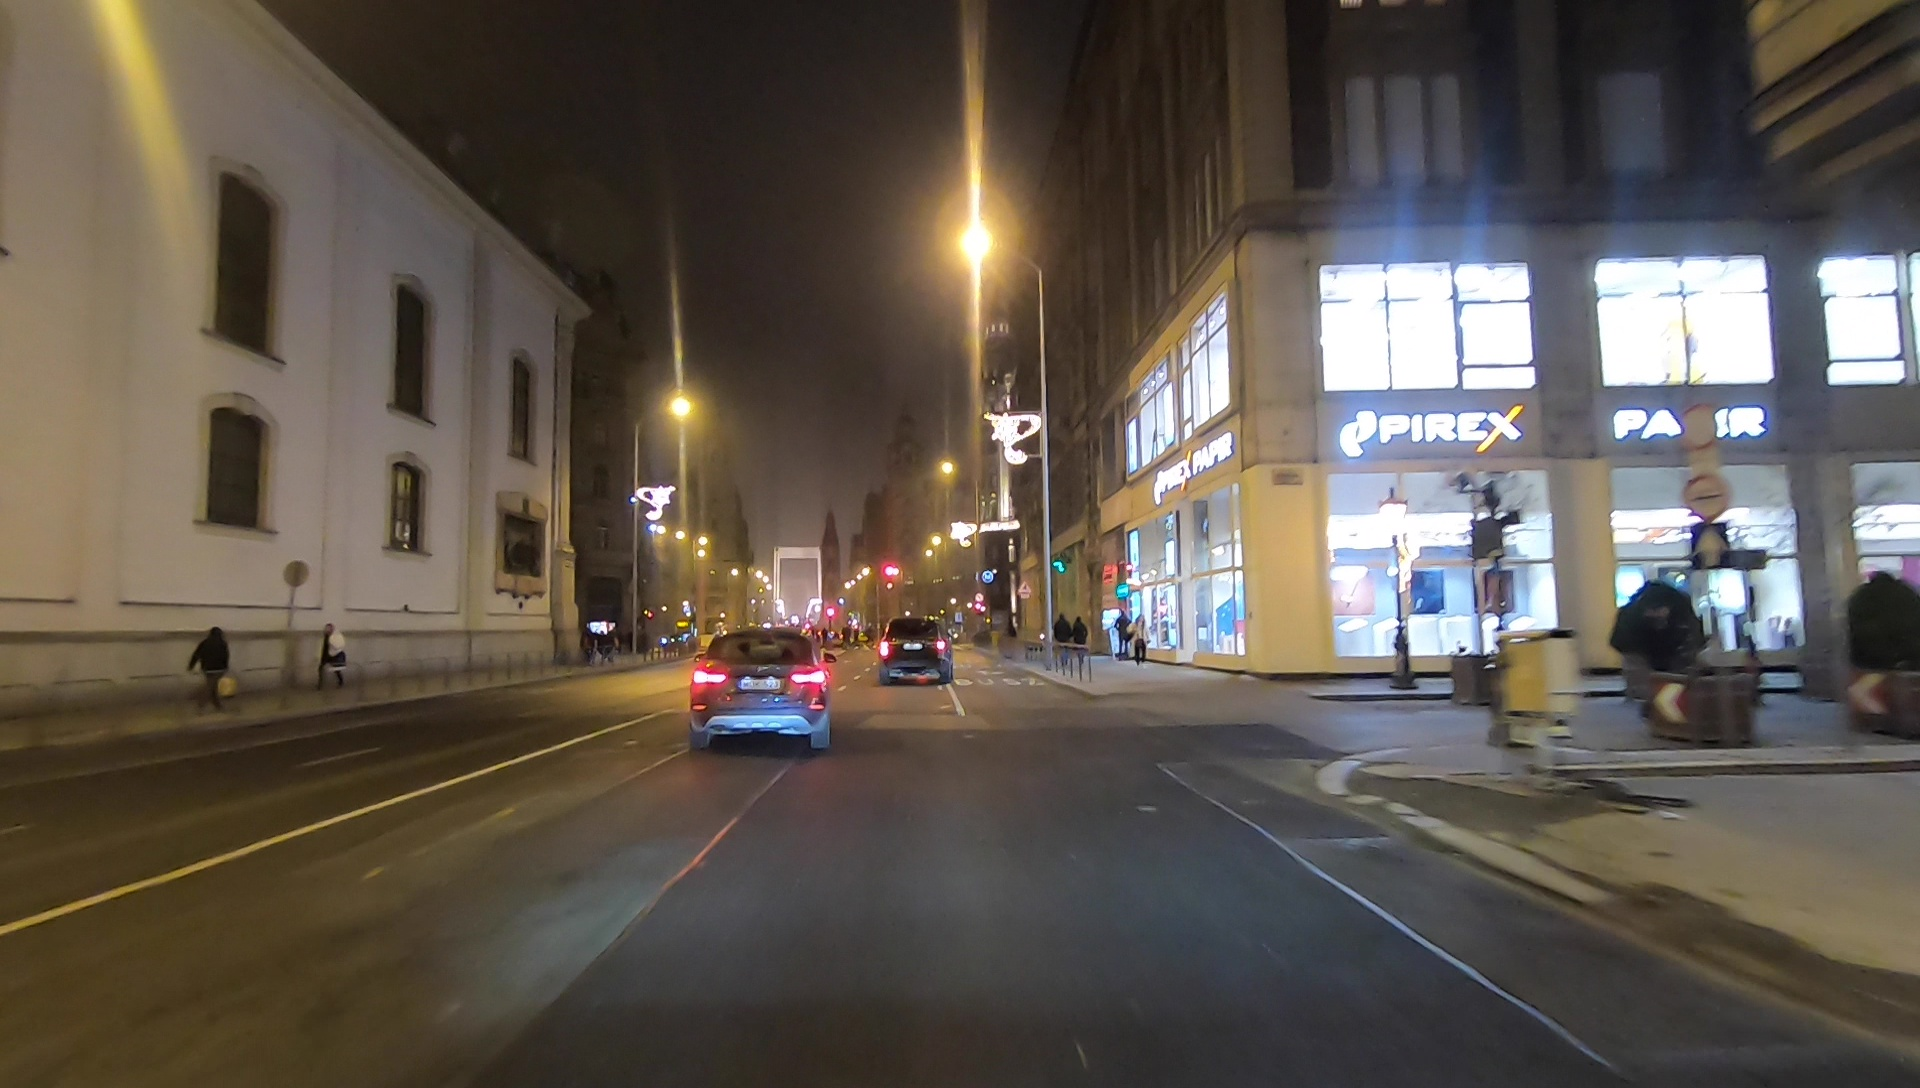person: (191, 625, 232, 714), (316, 620, 349, 694), (1053, 613, 1072, 680), (1130, 614, 1149, 667), (1073, 616, 1089, 667), (1116, 612, 1131, 660)
